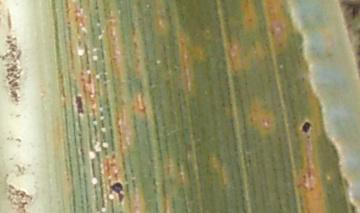tarspot: (109, 180, 126, 204), (74, 95, 86, 114), (301, 120, 312, 135)
